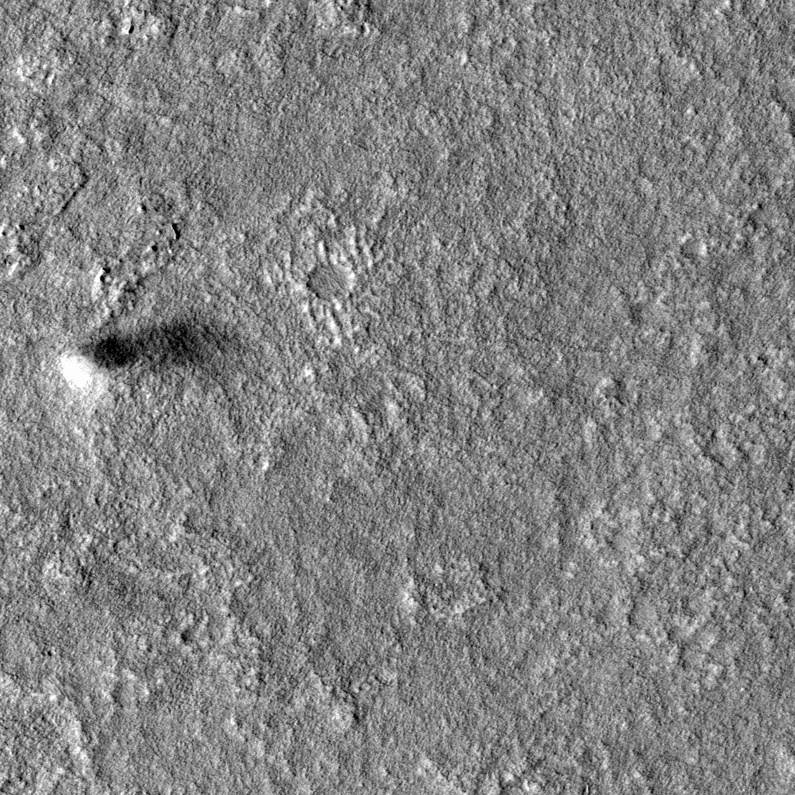dust_devil: (58, 313, 245, 397)
